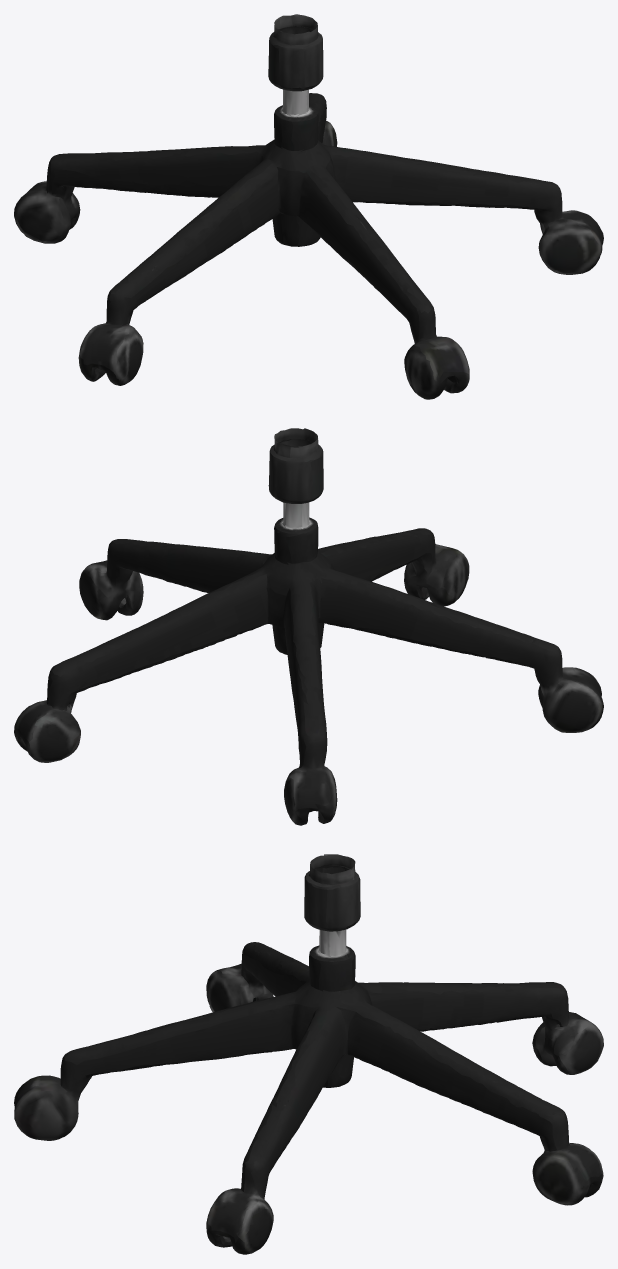
3 views of the same model, one above another, from view 1: azimuth 30°, elevation 25°; view 2: azimuth 150°, elevation 25°; view 3: azimuth 270°, elevation 25° (orthographic).
Visible parts, largest first — view 1: world; view 2: world; view 3: world.
Boxes of the visible parts, box(x1,y1,x2,y2) form: world: box(14, 14, 603, 399); world: box(14, 428, 603, 825); world: box(14, 854, 603, 1254).
Bounding box in the file's own units: 0.7885 × 0.3854 × 0.7606.
1 material, 1 textured.
